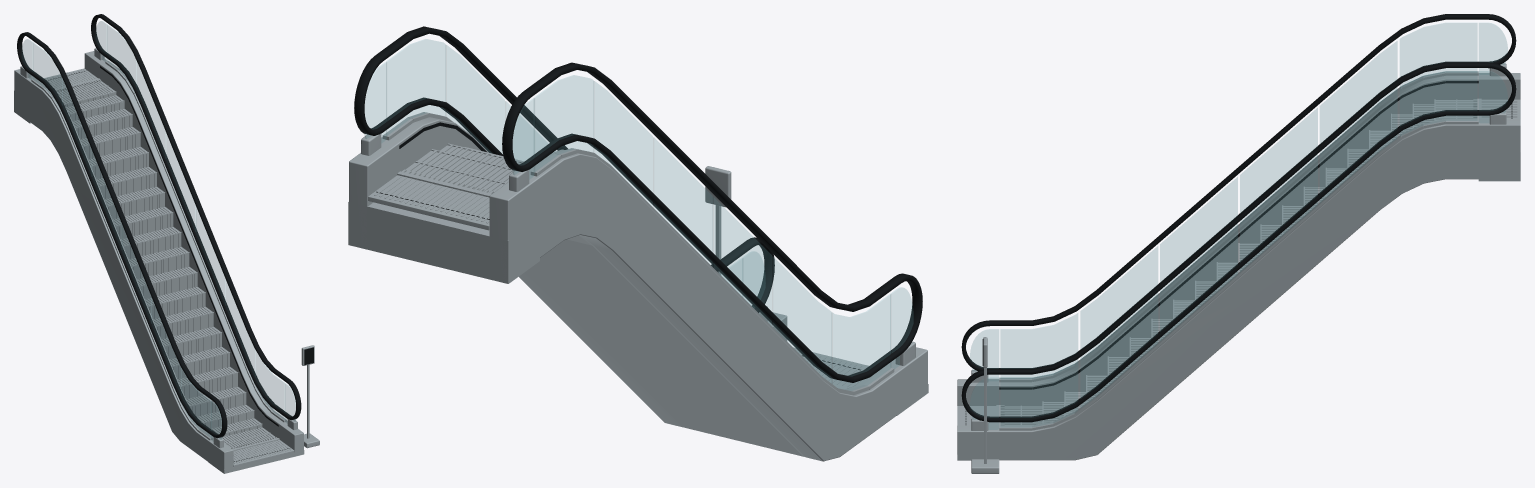
File: source-reexport.glb
3 views of the same model, side by side, from view 1: azimuth 30°, elevation 25°; view 2: azimuth 150°, elevation 25°; view 3: azimuth 270°, elevation 25° (orthographic). The views are drawn at different scales.
Parts seen in each view (by area): view 1: FRAME_Chassis, BALUSTRADE_Glass, HANDRAIL_Belts, LANDING_Plates, STEP_014, STEP_011, STEP_012, STEP_013, STEP_010, STEP_018, STEP_008, STEP_015 (+15 smaller); view 2: FRAME_Chassis, BALUSTRADE_Glass, HANDRAIL_Belts, LANDING_Plates, STEP_021, STEP_022, SIGNAGE_BlankPost, COMB_Plates, STEP_020; view 3: FRAME_Chassis, BALUSTRADE_Glass, HANDRAIL_Belts, LANDING_Plates, SIGNAGE_BlankPost.
Part boxes in pixels (x1,y1,x2,y2): FRAME_Chassis: (14,48,304,473); BALUSTRADE_Glass: (22,21,295,441); HANDRAIL_Belts: (17,14,301,461); LANDING_Plates: (44,68,294,466); STEP_014: (112,207,173,239); STEP_011: (137,267,197,299); STEP_012: (129,247,189,279); STEP_013: (121,227,181,259); STEP_010: (145,287,205,319); STEP_018: (80,127,140,159); STEP_008: (161,327,221,359); STEP_015: (104,187,165,219); FRAME_Chassis: (348,112,928,461); BALUSTRADE_Glass: (364,39,913,390); HANDRAIL_Belts: (354,26,922,382); LANDING_Plates: (368,175,868,387); STEP_021: (417,149,514,182); STEP_022: (405,161,506,192); SIGNAGE_BlankPost: (705,166,731,274); COMB_Plates: (397,169,848,389); STEP_020: (440,143,523,167); FRAME_Chassis: (957,63,1520,460); BALUSTRADE_Glass: (970,23,1507,429); HANDRAIL_Belts: (961,14,1516,424); LANDING_Plates: (957,99,1520,425); SIGNAGE_BlankPost: (971,337,999,473).
Size of the model in its own units: 1.67 by 4.64 by 6.
